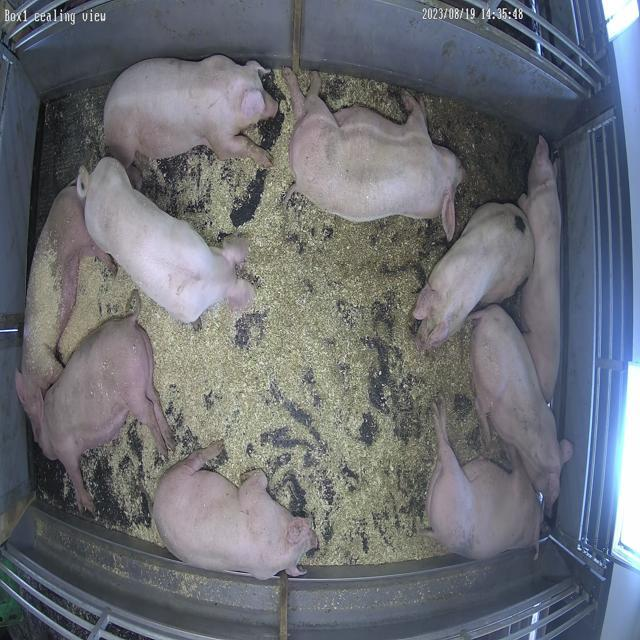Dirt: (352, 217, 506, 562), (426, 95, 532, 236)
Pig: (15, 316, 174, 512), (285, 70, 464, 238), (76, 158, 253, 322), (15, 185, 114, 440), (152, 446, 318, 578), (472, 305, 573, 506), (103, 55, 278, 167), (427, 403, 544, 560), (414, 203, 535, 350), (520, 136, 563, 402)
